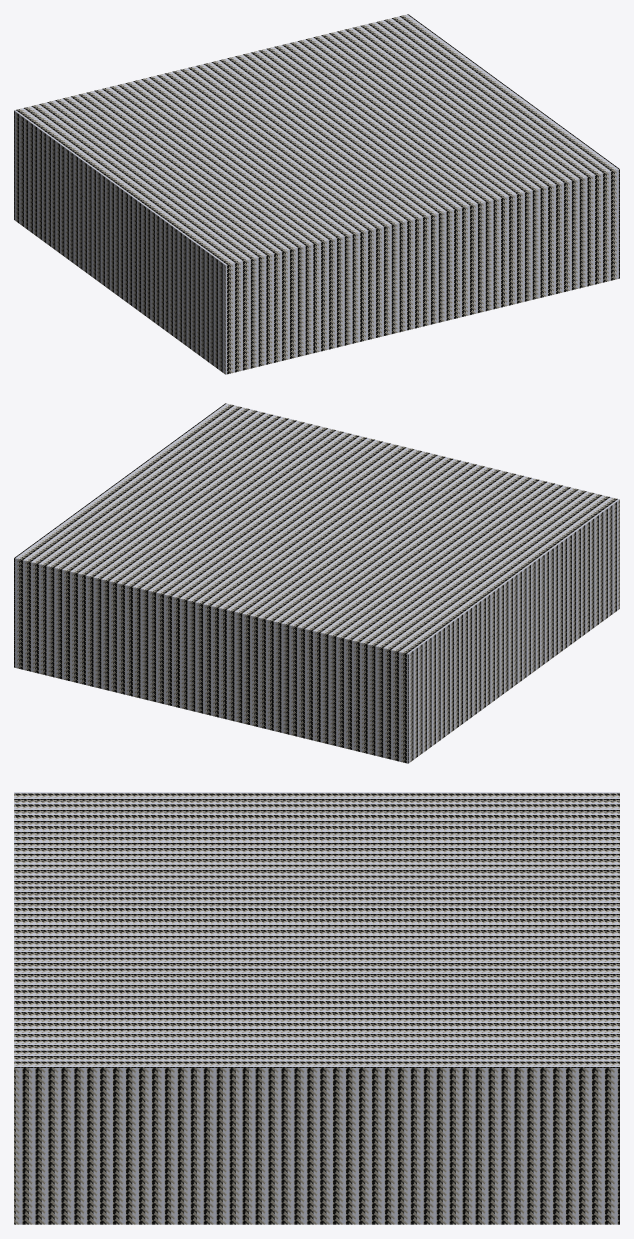
Rendered from Outro_brush.glb.
3 renders of one model, top to bottom at view 1: azimuth 30°, elevation 25°; view 2: azimuth 150°, elevation 25°; view 3: azimuth 270°, elevation 25°, orthographic. The views are drawn at different scales.
Visible parts, largest first — view 1: Outro; view 2: Outro; view 3: Outro.
Part boxes in pixels (<box>): Outro: <box>14,14,619,374</box>; Outro: <box>14,403,619,763</box>; Outro: <box>14,792,619,1224</box>.
Size of the model in its own units: 12891 by 3421 by 11986.
Materials: 58 (58 with a texture image).
